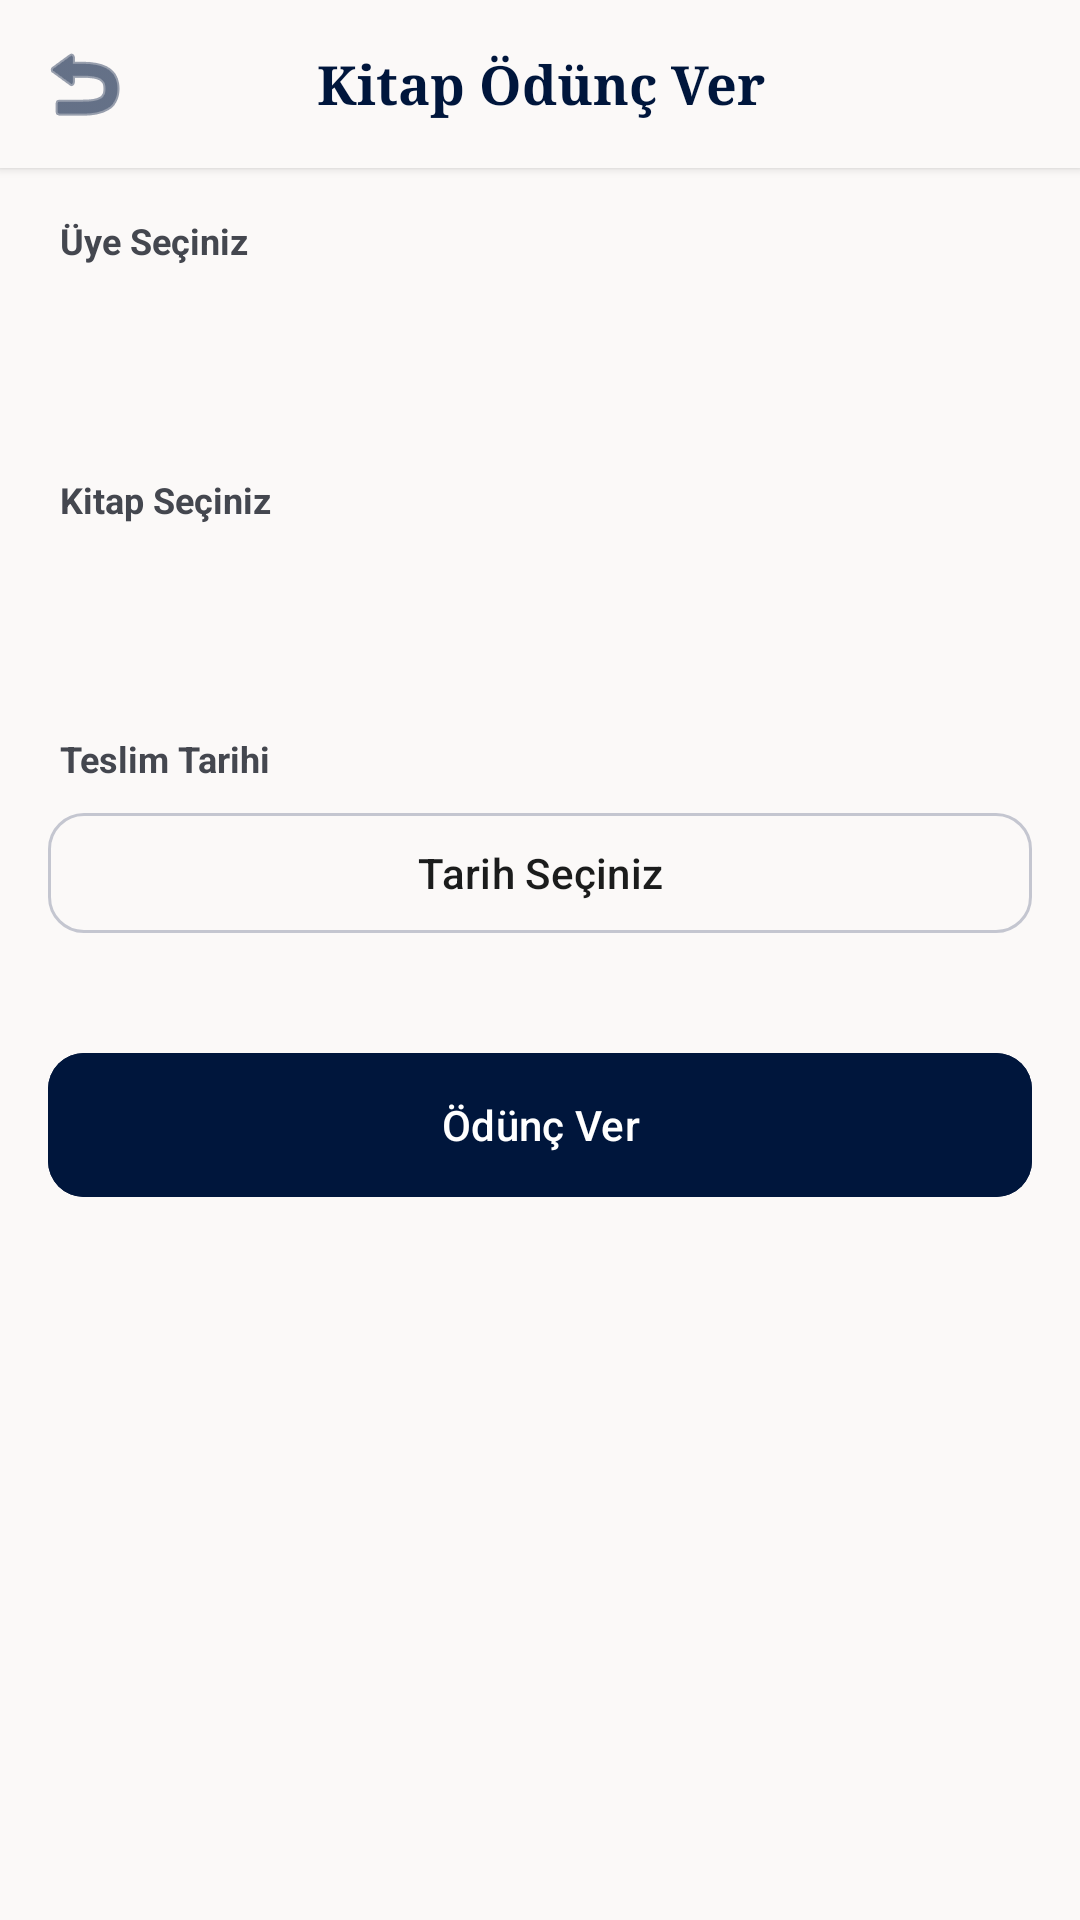

Icon click points for this 1080 × 1920 phone screenshot, format [x,y]:
Geri: [85,84]
